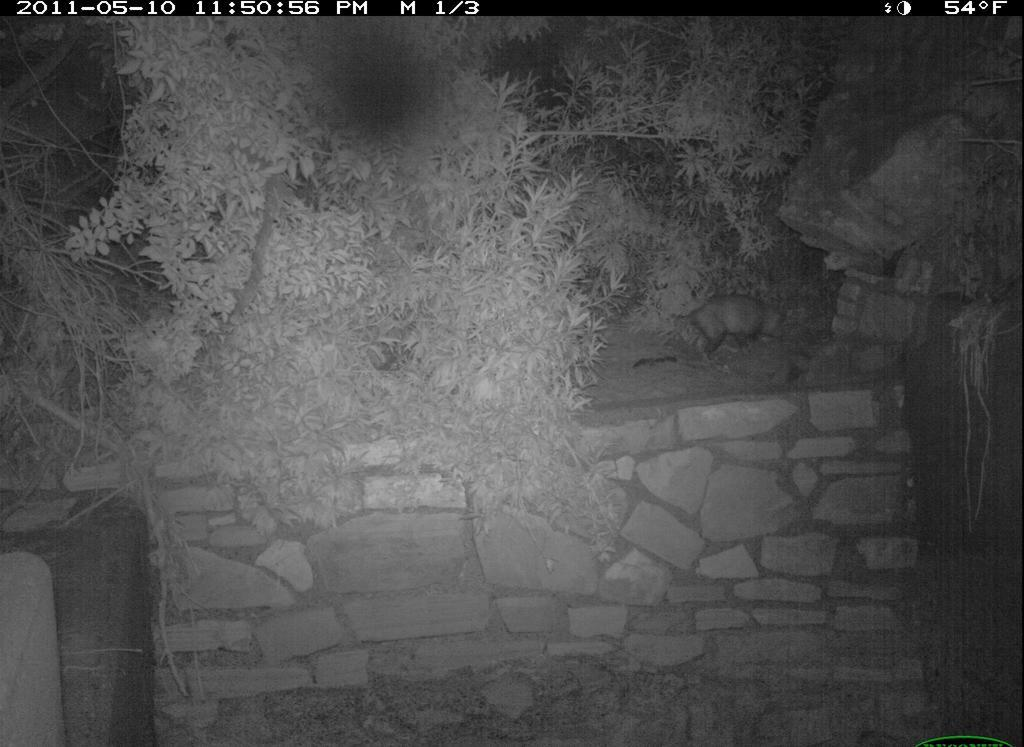opossum: (651, 277, 817, 361)
